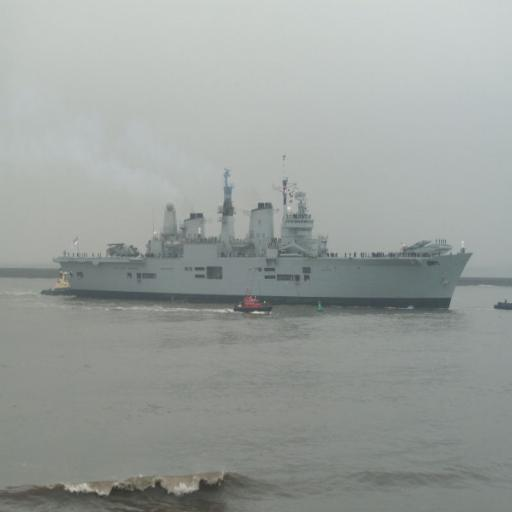Portanaves: (51, 158, 477, 306)
